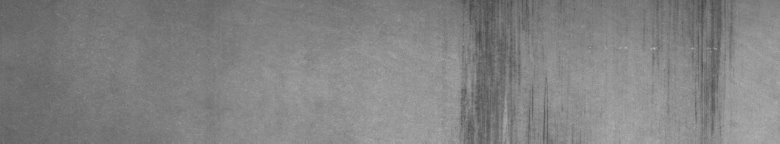ka: (456, 4, 563, 136)
